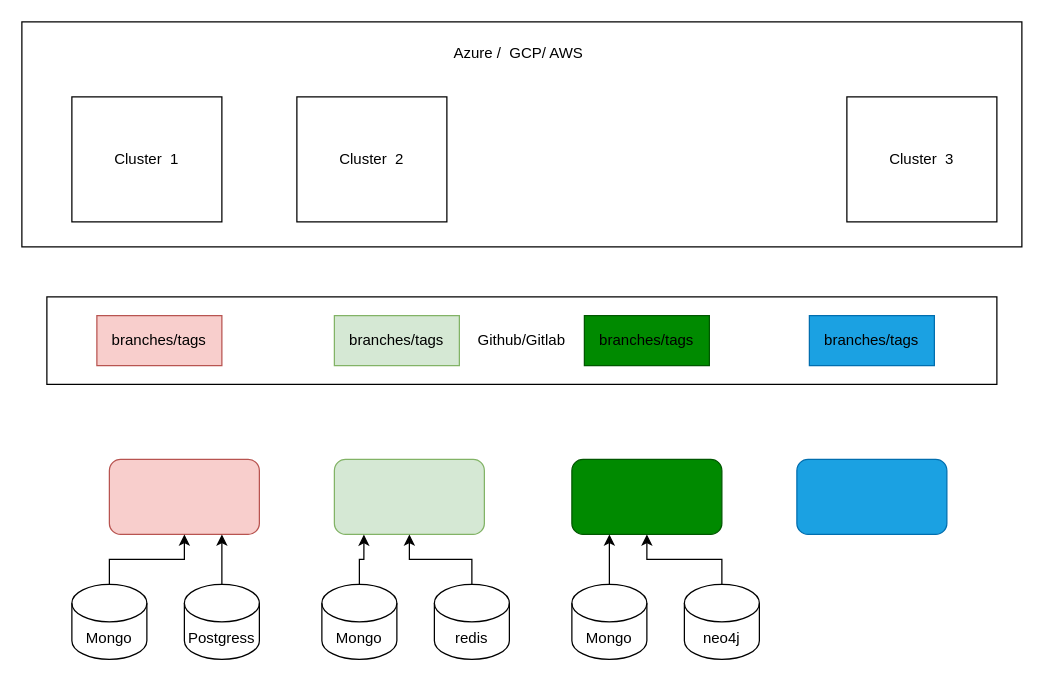
Image size: 1044x681. Some labels were removed from this diagram. The shapes that lost their labels are listed below. From the top down, each one's centre as x and y in pixels, then its label:
(183,496): Micro Service Code in java
(408,496): Micro Service Code in pyhton
(646,496): Micro Service Code in nodeJS
(871,496): Micro Service Code in c#
